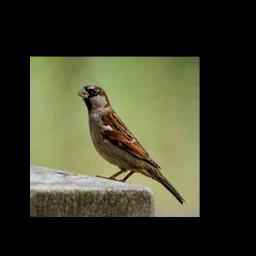Sparrow: (78, 85, 186, 205)
